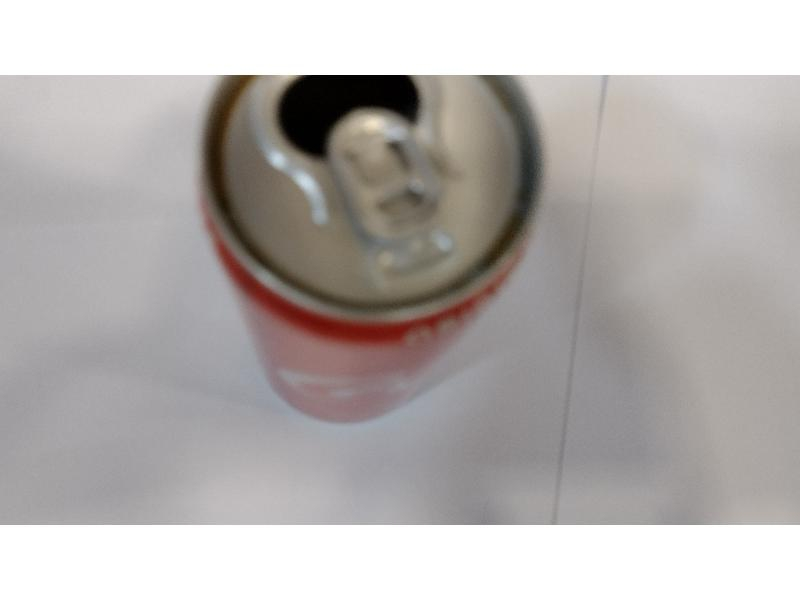can: (198, 77, 548, 434)
